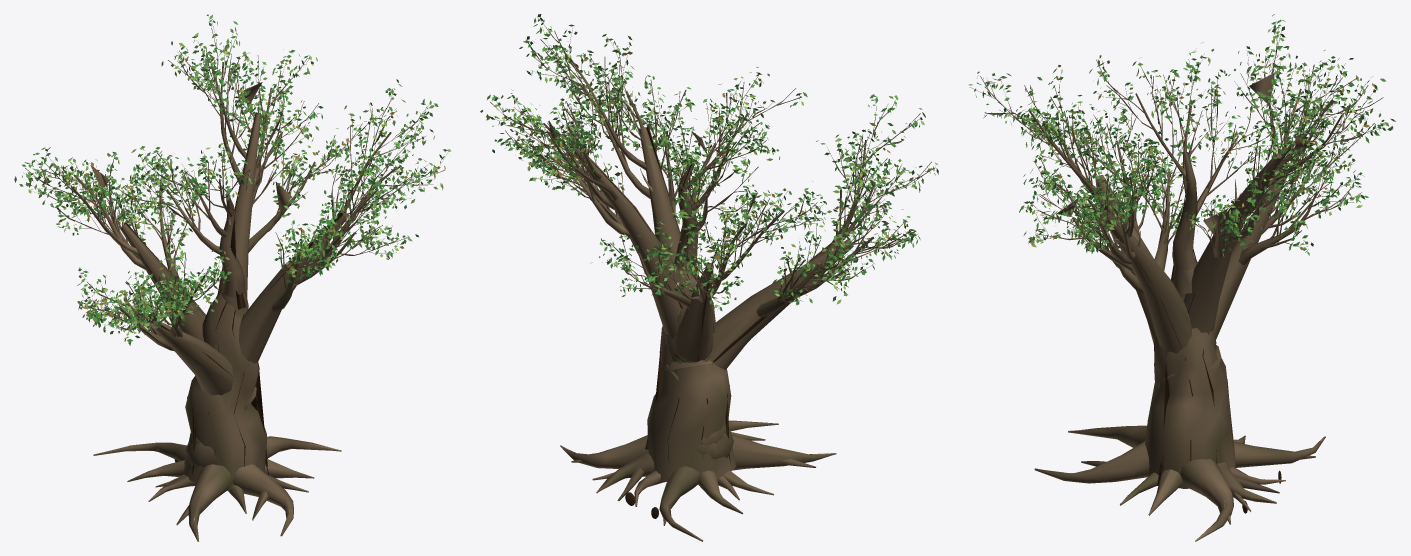
File: ancient_tree_01_lod2.glb
3 views of the same model, side by side, from view 1: azimuth 30°, elevation 25°; view 2: azimuth 150°, elevation 25°; view 3: azimuth 270°, elevation 25° (orthographic). The views are drawn at different scales.
Visible parts, largest first — view 1: AncientTreeWood_LOD2, AncientLeaves_LOD2, FineBranches_LOD2, DirectedBarkGrooves_LOD2; view 2: AncientTreeWood_LOD2, AncientLeaves_LOD2, FineBranches_LOD2, DirectedBarkGrooves_LOD2; view 3: AncientTreeWood_LOD2, AncientLeaves_LOD2, FineBranches_LOD2, DirectedBarkGrooves_LOD2.
Part boxes in pixels (left/top/right/bottom): AncientTreeWood_LOD2: left=25, top=28, right=444, bottom=541; AncientLeaves_LOD2: left=14, top=14, right=451, bottom=345; FineBranches_LOD2: left=24, top=23, right=447, bottom=336; DirectedBarkGrooves_LOD2: left=126, top=113, right=342, bottom=474; AncientTreeWood_LOD2: left=490, top=30, right=931, bottom=541; AncientLeaves_LOD2: left=480, top=14, right=938, bottom=310; FineBranches_LOD2: left=489, top=18, right=934, bottom=303; DirectedBarkGrooves_LOD2: left=572, top=126, right=849, bottom=464; AncientTreeWood_LOD2: left=980, top=27, right=1383, bottom=541; AncientLeaves_LOD2: left=969, top=14, right=1395, bottom=256; FineBranches_LOD2: left=970, top=26, right=1384, bottom=252; DirectedBarkGrooves_LOD2: left=1097, top=152, right=1279, bottom=488.
Bounding box in the file's own units: 19.99 × 22.16 × 18.51.
